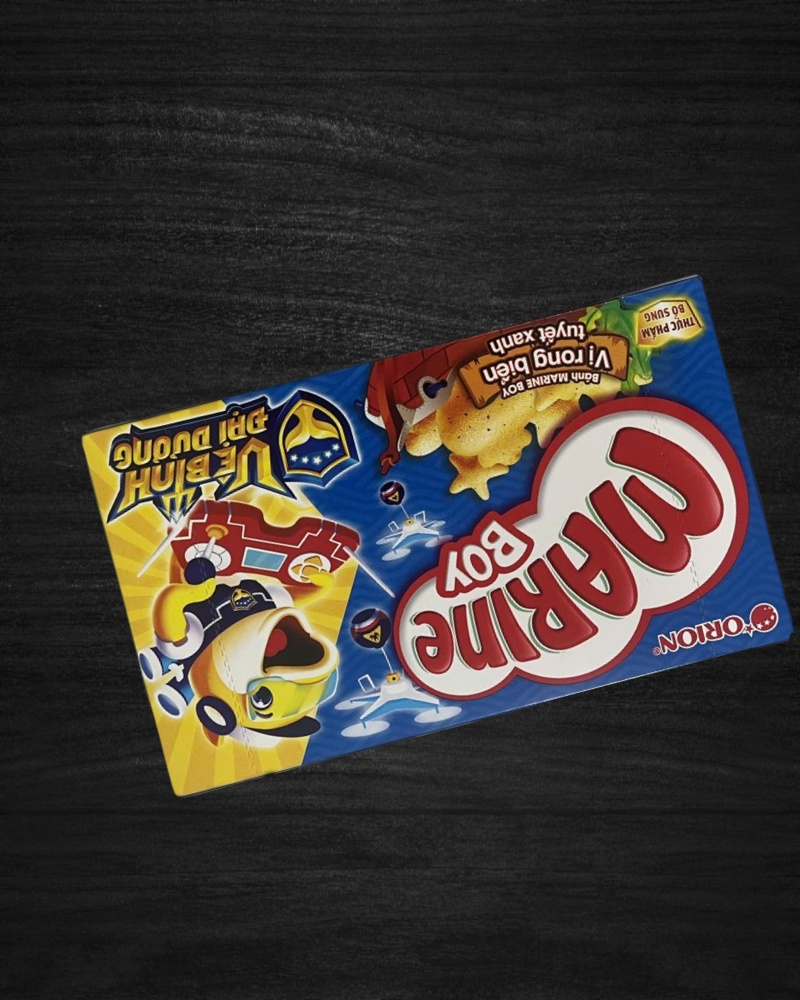Marine: (77, 268, 799, 804)
